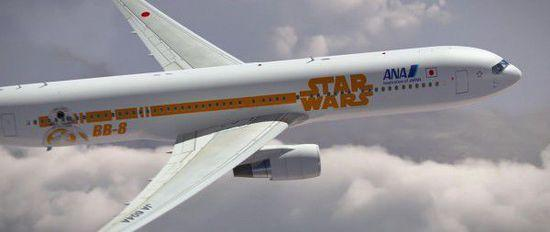airplane: (1, 1, 523, 230)
